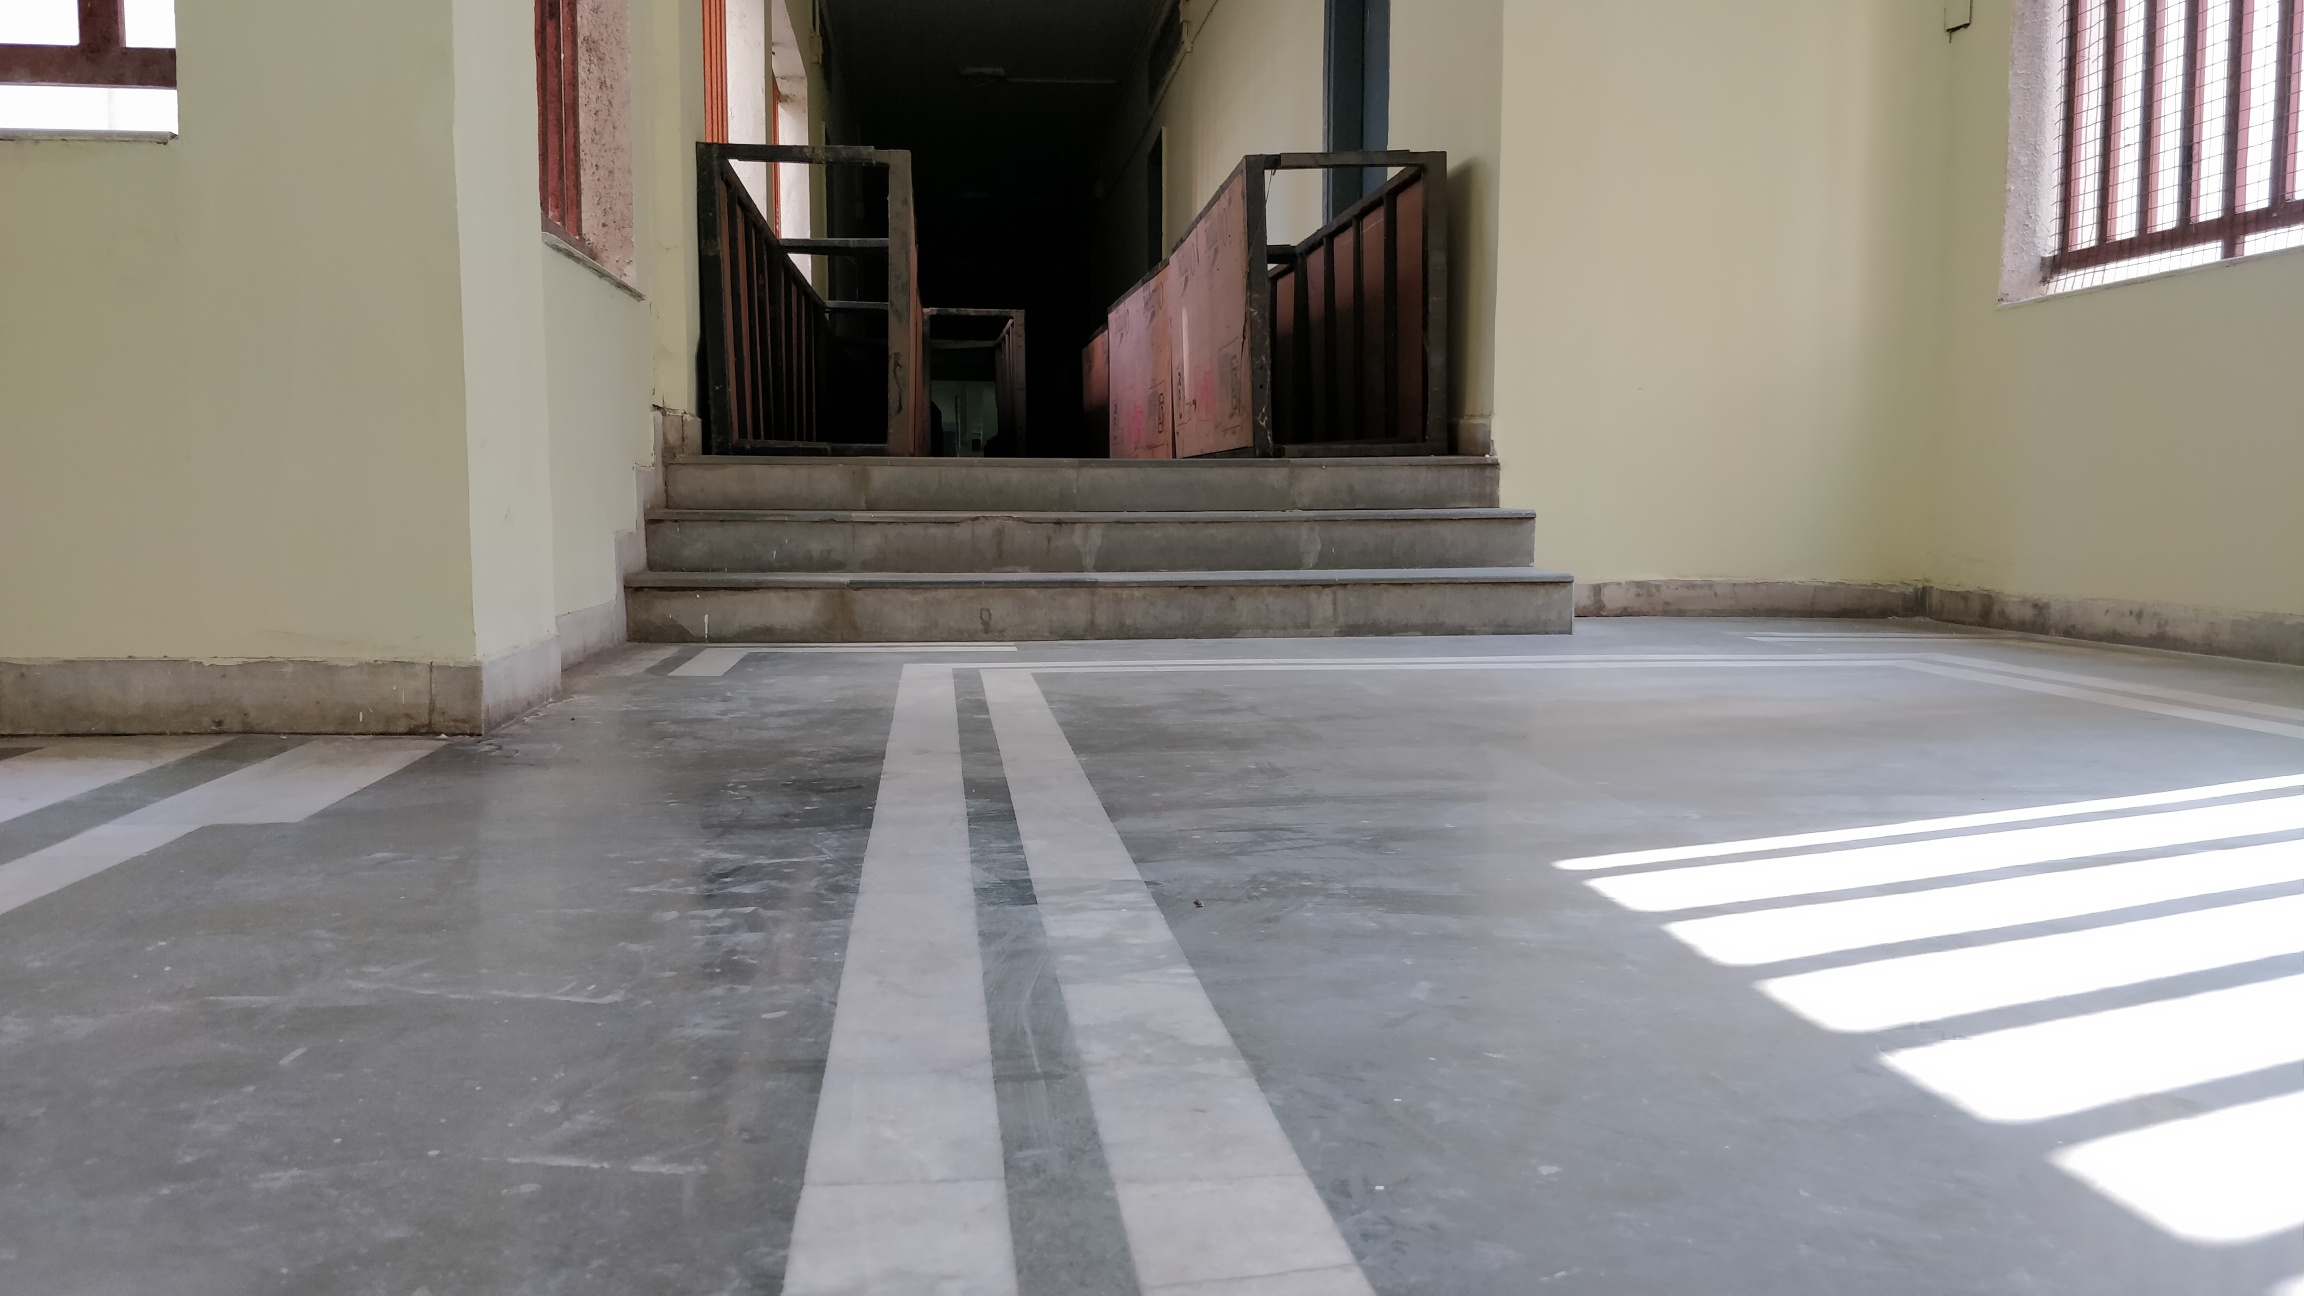stairs_up: (649, 446, 1559, 652)
